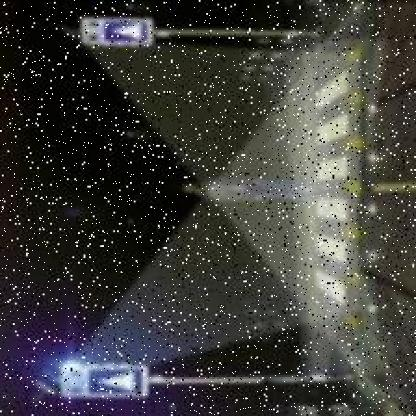Pedestrian Crossing: (85, 366, 145, 394), (99, 19, 151, 41)
